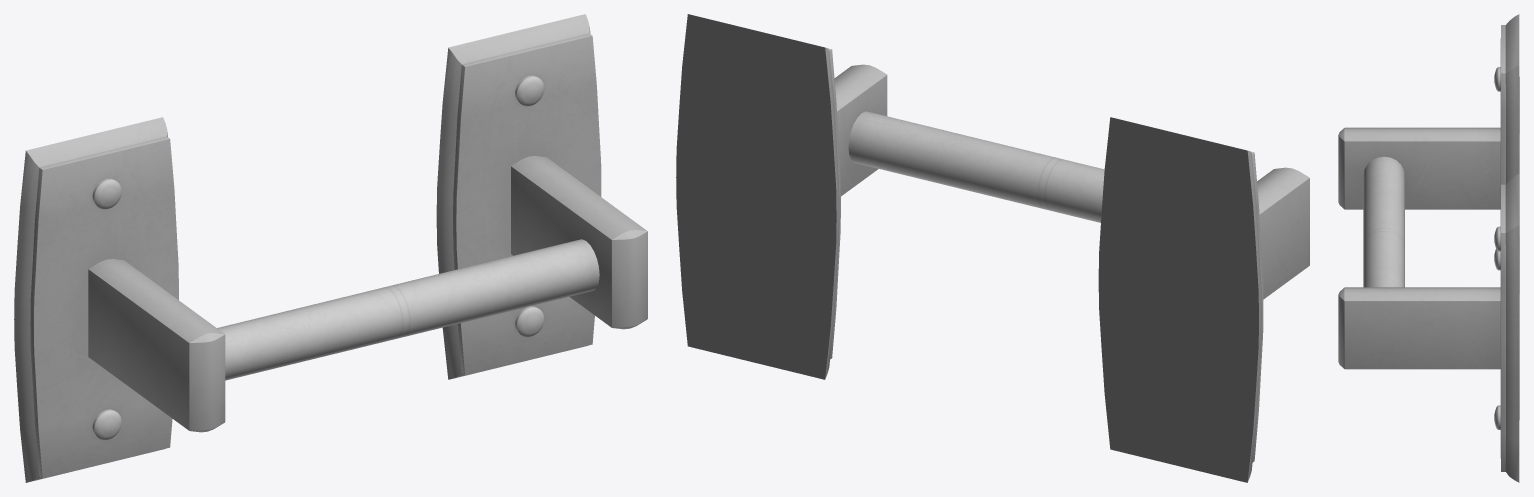
The model's file is Tissue.obj.
3 views of the same model, side by side, from view 1: azimuth 30°, elevation 25°; view 2: azimuth 150°, elevation 25°; view 3: azimuth 270°, elevation 25° (orthographic). The views are drawn at different scales.
Visible parts, largest first — view 1: 13._TIssue.001_uploads_files_1990600_Toilet+roll+holder.001; view 2: 13._TIssue.001_uploads_files_1990600_Toilet+roll+holder.001; view 3: 13._TIssue.001_uploads_files_1990600_Toilet+roll+holder.001.
Boxes of the visible parts, x1,y1,x2,y2 form: 13._TIssue.001_uploads_files_1990600_Toilet+roll+holder.001: (14, 14, 647, 482); 13._TIssue.001_uploads_files_1990600_Toilet+roll+holder.001: (676, 14, 1309, 482); 13._TIssue.001_uploads_files_1990600_Toilet+roll+holder.001: (1338, 14, 1519, 482).
Bounding box in the file's own units: 1.13 × 0.6143 × 0.3916.
